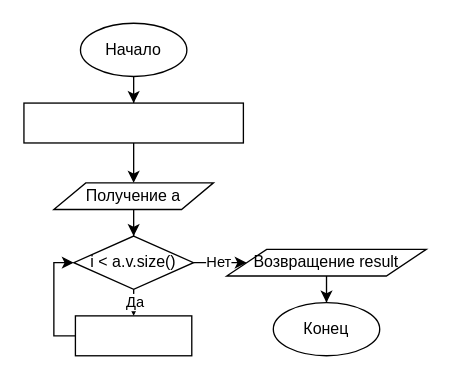
This 450x379 diagram has some shape labels left out. Here are the shapes that lost their labels. From the top down, the box of each, then its label:
(23, 102, 243, 143): Array a Целове число result = 0, i = 0
(74, 315, 192, 356): result += a.v[i] i++
